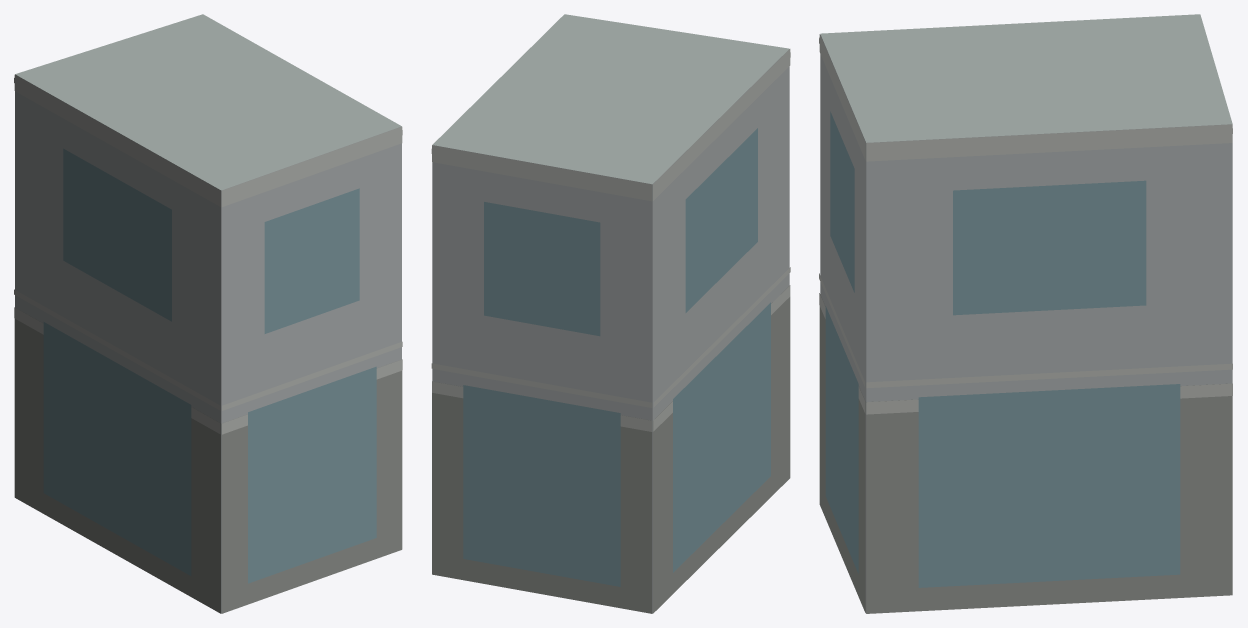
Rendered from survey-upis-32931311.glb.
The picture shows the model from 3 angles, left to right: view 1: azimuth 30°, elevation 25°; view 2: azimuth 150°, elevation 25°; view 3: azimuth 270°, elevation 25°; orthographic projection. The views are drawn at different scales.
Visible parts, largest first — view 1: survey-upis-32931311.tmp; view 2: survey-upis-32931311.tmp; view 3: survey-upis-32931311.tmp.
Boxes of the visible parts, <box> form: survey-upis-32931311.tmp: <box>14,14,402,613</box>; survey-upis-32931311.tmp: <box>431,14,790,613</box>; survey-upis-32931311.tmp: <box>819,14,1232,613</box>.
Bounding box in the file's own units: 3.6 × 6.1 × 4.87.
